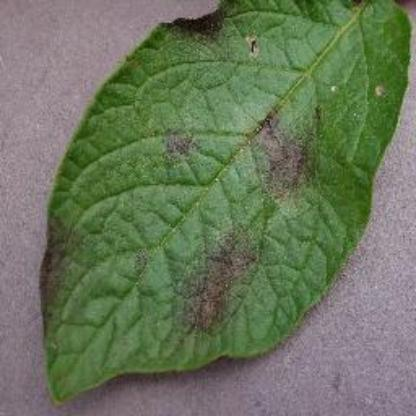Late-Blight: (36, 1, 414, 404)
